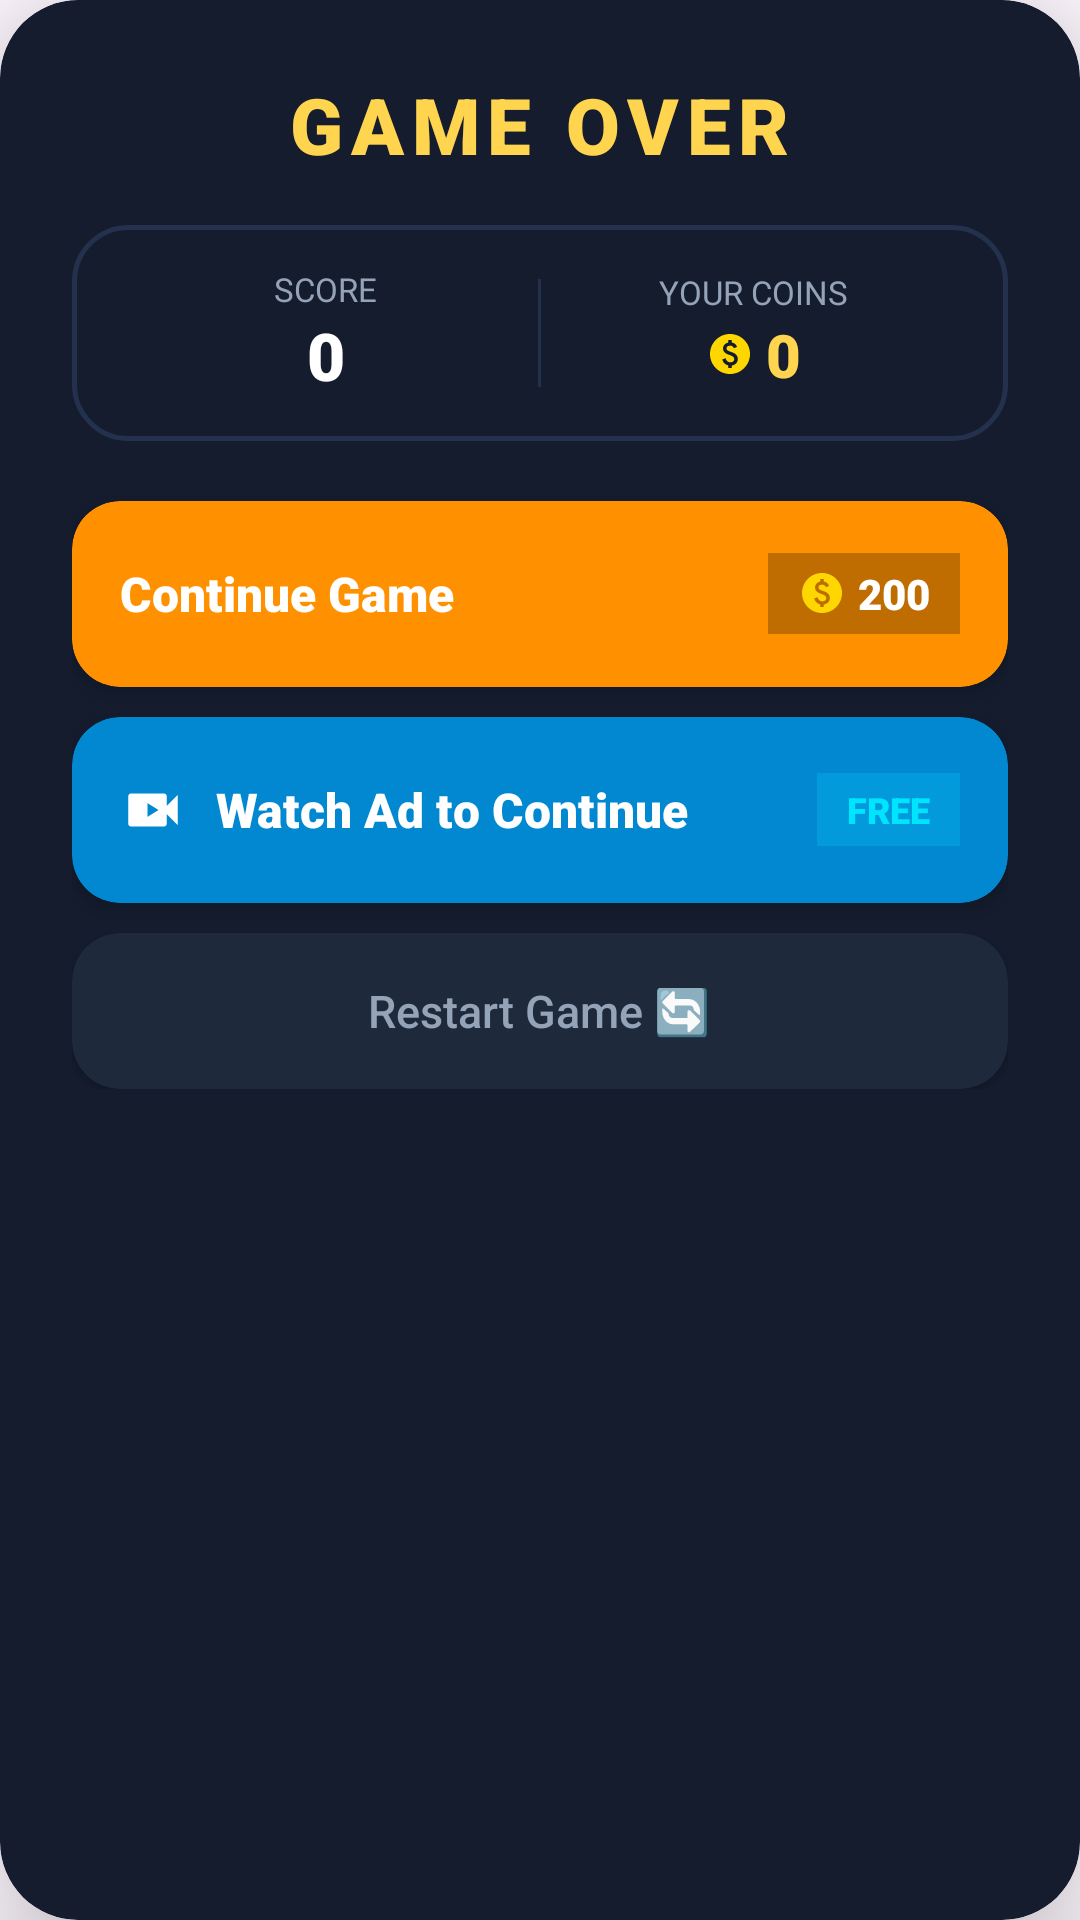

Where icons sit on this 1080px×1920px app screen, as bbox=[x1, y1, x2, y2]:
video ad: bbox=[128, 793, 178, 827]
